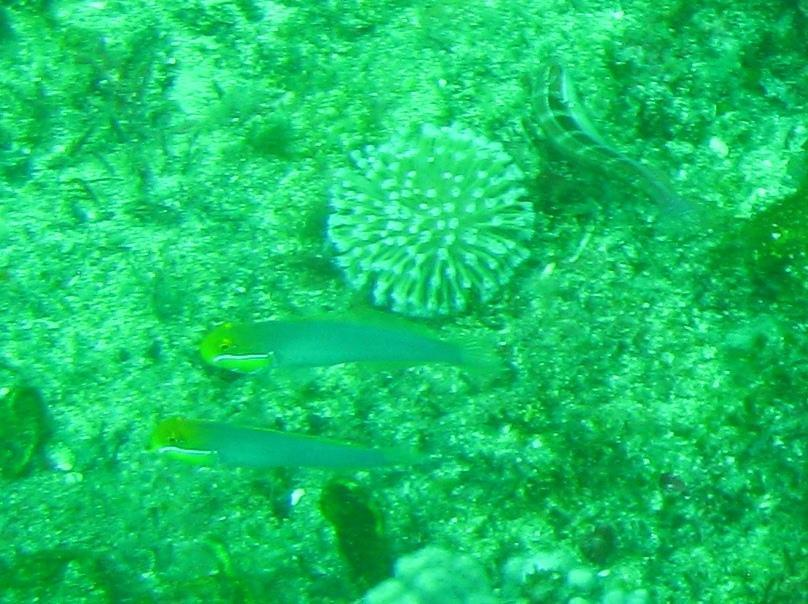Fish: (186, 291, 558, 395), (133, 397, 418, 508)
